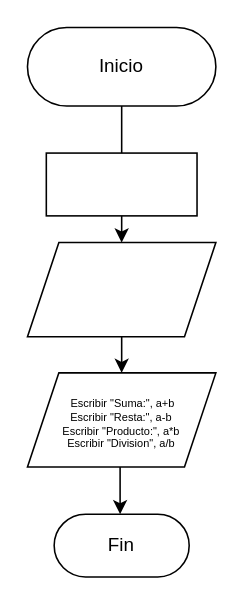
This 243x604 diagram has some shape labels left out. The centre of each missing label's shape, as x and y in pixels:
"Definir A, B como Real" belongs at [121,184].
"Leer A Leer B" belongs at [121,289].
